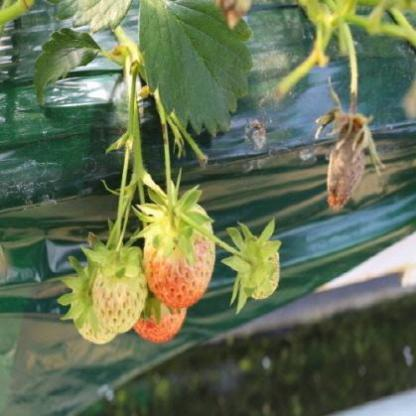Strawberry_Gray_Mold: (316, 100, 376, 210)
